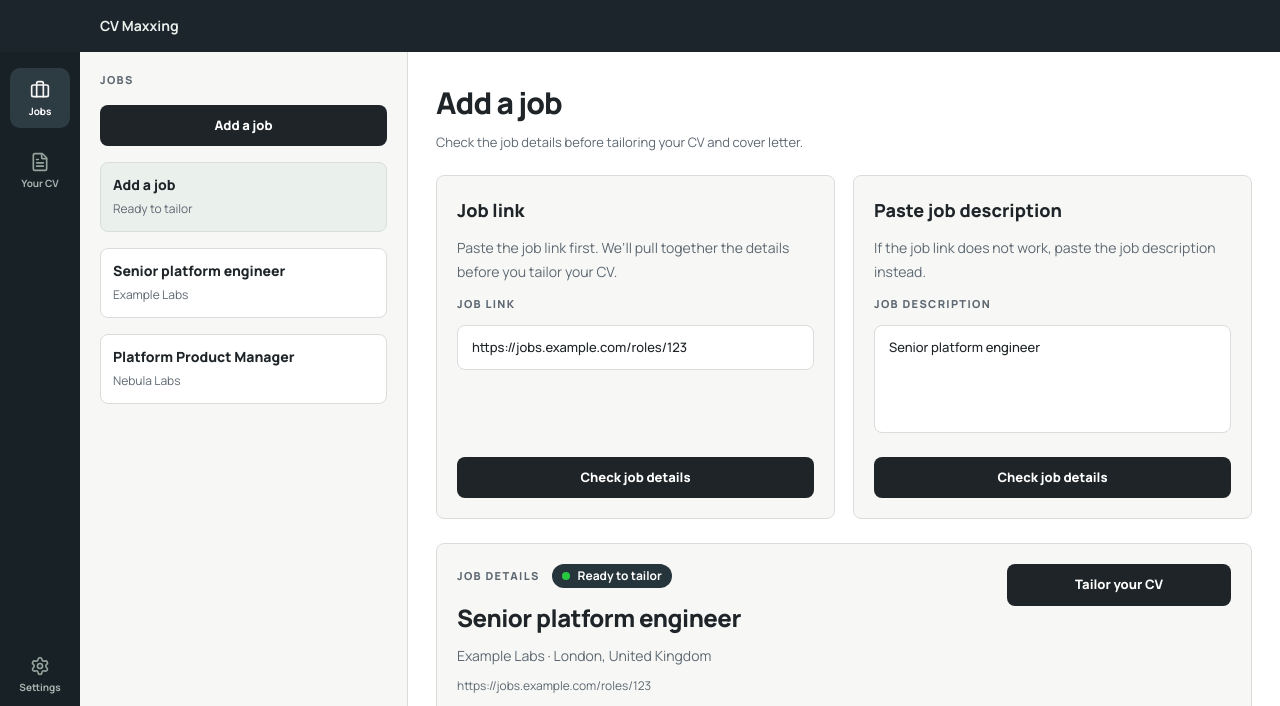
Test: switches between saved tailored applications without discarding the current draft
Expected: the heading "Add a job" is shown, [436,82,562,123]
Expected: the field labelled "Job link" holds "https://jobs.example.com/roles/123", [457,325,814,370]
Click the button with aria-label "Open platform product manager": (244, 369) [113,347,374,391]
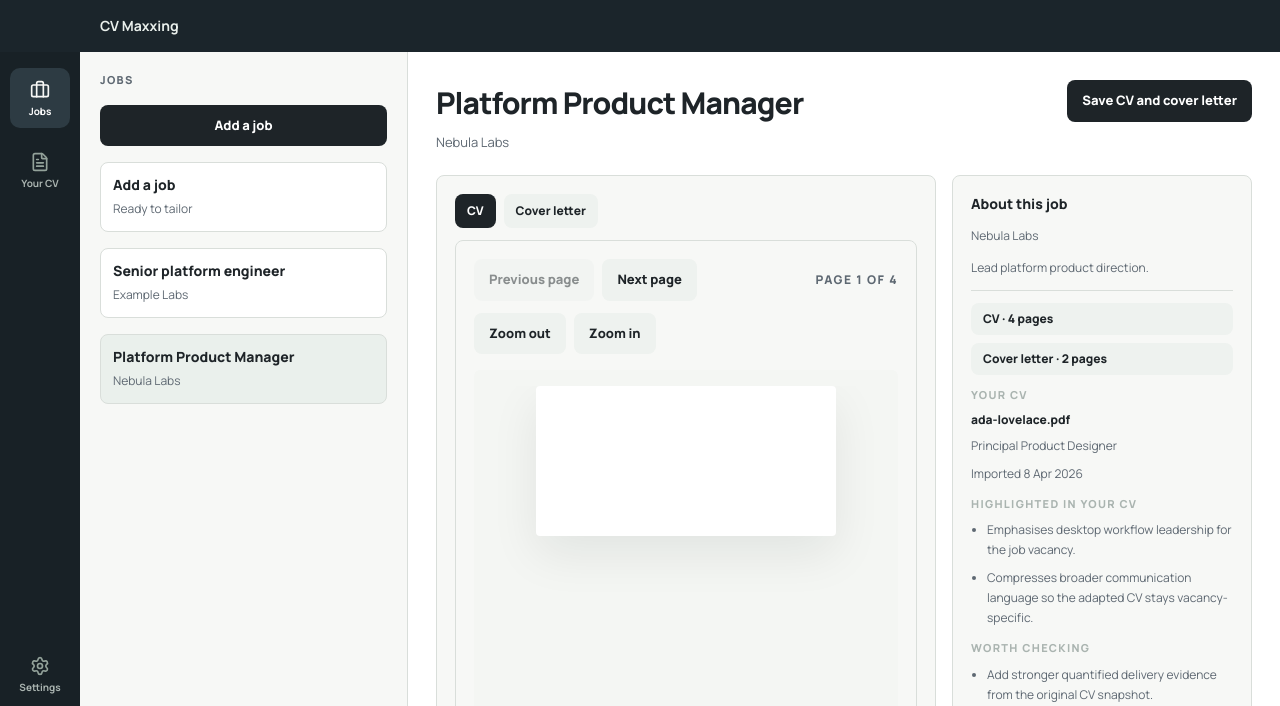
Expected: the button with aria-label "Open add a job" is shown, [113,175,374,219]
Result: the heading "Platform Product Manager" is shown at [436,82,803,123]
Click the button with aria-label "Open senior platform engineer": (244, 283) [113,261,374,305]
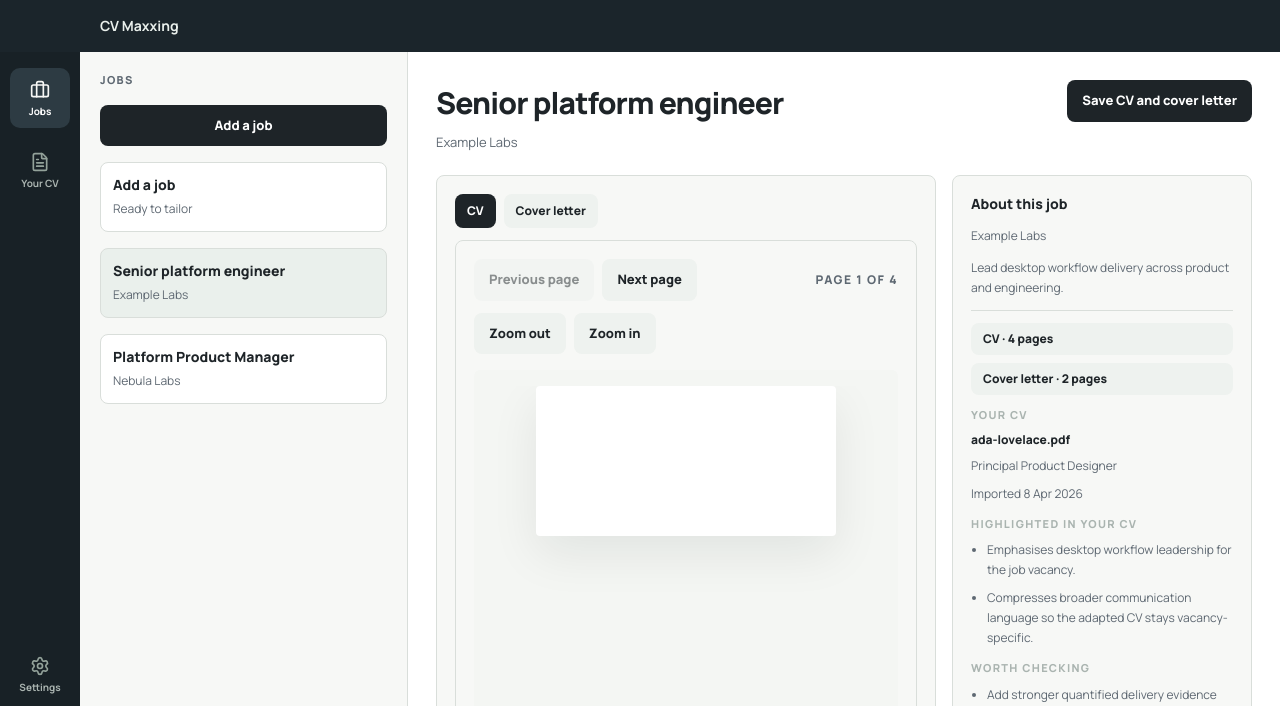
Result: the heading "Senior platform engineer" is shown at [436,82,784,123]
Click the button with aria-label "Open add a job": (144, 184) [113,175,374,219]
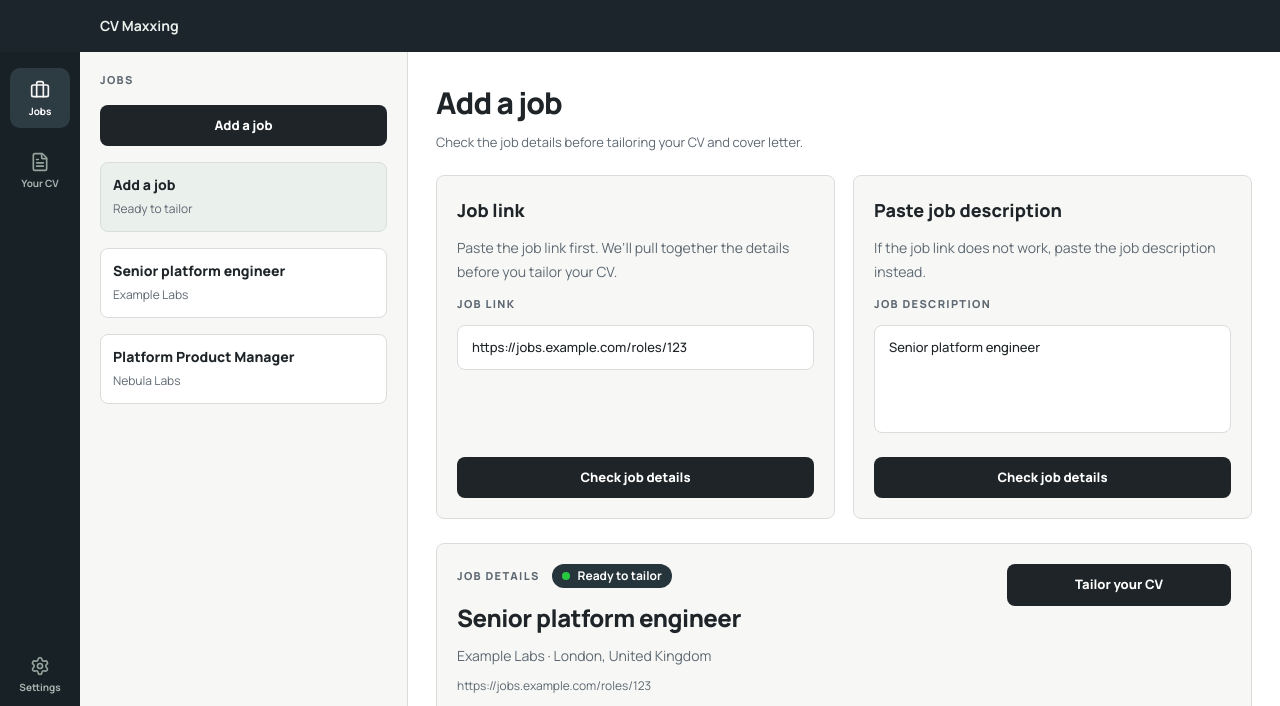
Result: the heading "Add a job" is shown at [436,82,562,123]
Result: the field labelled "Job link" holds "https://jobs.example.com/roles/123" at [457,325,814,370]
Result: the text box labelled "Job description" holds "Senior platform engineer" at [874,325,1231,433]
